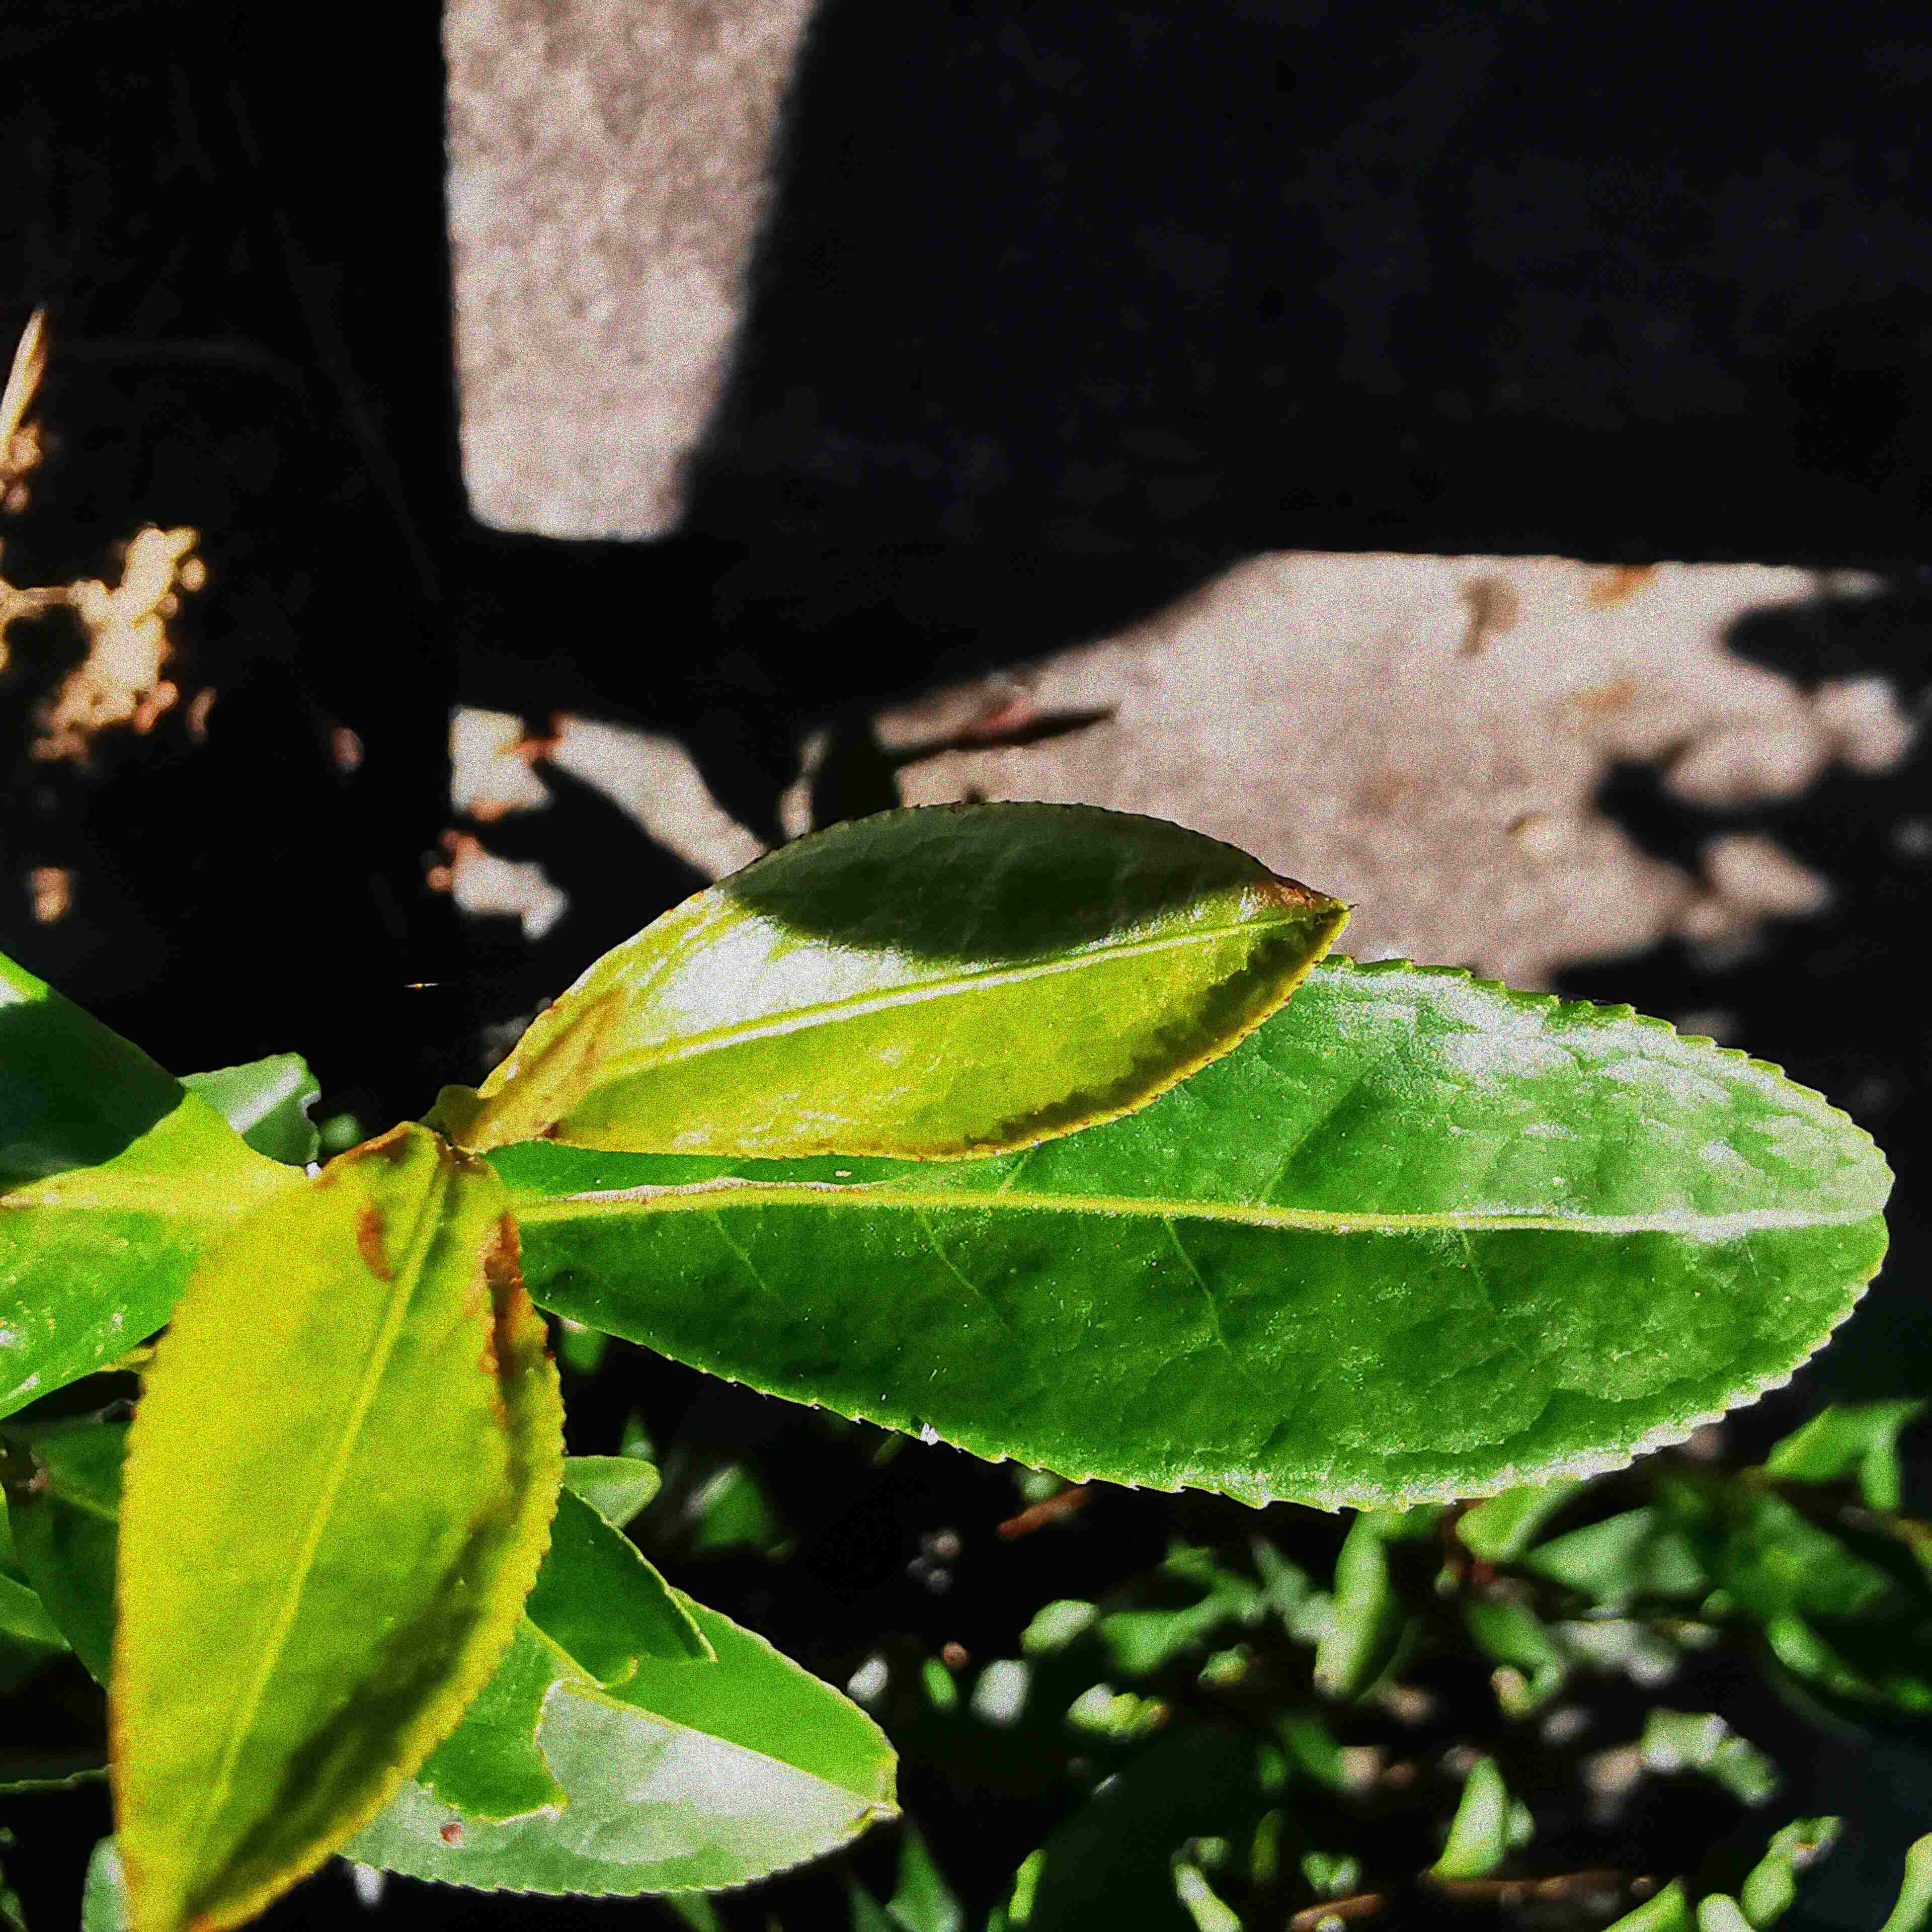chihuo_high: (412, 1484, 717, 1831)
tanju_low: (108, 1116, 570, 1930), (474, 800, 1350, 1166)
